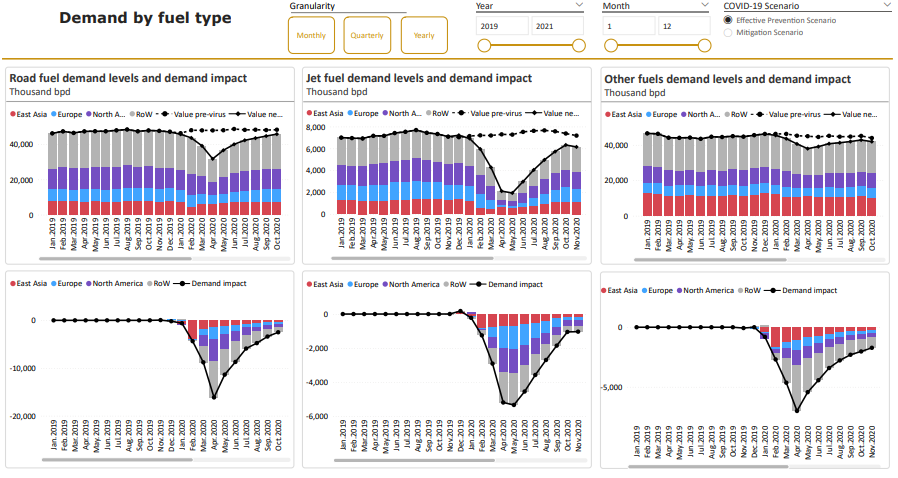

The dashboard page shown, as its layout file describes it:
{"tool":"powerbi","page":{"name":"Demand by fuel type","canvas":[1700,900],"ordinal":3},"visuals":[{"type":"textbox","box":[548,0,300.5,33.9],"z":0},{"type":"basicShape","box":[10.3,512.4,557.1,380.6],"z":1000},{"type":"basicShape","box":[1132.3,513.5,557.5,380.5],"z":2000},{"type":"basicShape","box":[569.7,512.4,558.3,380.6],"z":3000},{"type":"basicShape","box":[10.4,128.4,557.5,380.5],"z":4000},{"type":"basicShape","box":[570.2,128.4,557.5,380.5],"z":5000},{"type":"basicShape","box":[1132.6,128.4,557.1,380.6],"z":6000},{"type":"image","box":[9.2,5.7,87.1,92.9],"z":7000},{"type":"basicShape","box":[8,188,562.7,18.7],"z":8000},{"type":"basicShape","box":[568,188.5,562.8,19.4],"z":9000},{"type":"basicShape","box":[1130.3,189.1,561.7,18.3],"z":10000},{"type":"textbox","box":[19.4,131.7,530.5,64.5],"z":11000},{"type":"textbox","box":[578.9,133,539.9,64.2],"z":12000},{"type":"textbox","box":[1140.6,134.1,539.9,64.2],"z":13000},{"type":"textbox","box":[113.5,0,520.4,118.1],"z":14000},{"type":"basicShape","box":[0,99.1,1699.8,35.5],"z":15000},{"type":"slicer","title":"M scenario slicer","fields":{"Values":["MonthlyMain.COVID-19 Scenario"]},"box":[1357.6,0,342.4,106.6],"z":17000},{"type":"lineStackedColumnComboChart","title":"M other imp","fields":{"Category":["Data.Period"],"Series":["Data.Corona-region"],"Y":["Sum(Data.Value demand impact kbbl/d)"],"Y2":["Sum(Data.Value demand impact kbbl/d)"]},"box":[1132.9,532.3,539.3,362.3],"z":18000},{"type":"lineStackedColumnComboChart","title":"M Other","fields":{"Category":["Data.Period"],"Series":["Data.Corona-region"],"Y":["Sum(Data.Value new demand)"],"Y2":["Sum(Data.Value pre-virus)","Sum(Data.Value new demand)"]},"box":[1141.1,200.1,539.6,304.6],"z":19000},{"type":"slicer","title":"M slicer","fields":{"Values":["MonthlyMain.Month"]},"box":[1130.4,0,225.4,178.2],"z":20000},{"type":"lineStackedColumnComboChart","title":"M jet imp","fields":{"Category":["Data.Period"],"Series":["Data.Corona-region"],"Y":["Sum(Data.Value demand impact kbbl/d)"],"Y2":["Sum(Data.Value demand impact kbbl/d)"]},"box":[578.3,520.2,540.9,362.7],"z":21000},{"type":"lineStackedColumnComboChart","title":"M Jet","fields":{"Category":["Data.Period"],"Series":["Data.Corona-region"],"Y":["Sum(Data.Value new demand)"],"Y2":["Sum(Data.Value pre-virus)","Sum(Data.Value new demand)"]},"box":[578.3,197.5,539.6,304.6],"z":22000},{"type":"lineStackedColumnComboChart","title":"M road imp","fields":{"Category":["Data.Period"],"Series":["Data.Corona-region"],"Y":["Sum(Data.Value demand impact kbbl/d)"],"Y2":["Sum(Data.Value demand impact kbbl/d)"]},"box":[19.4,518.9,539.6,362.7],"z":23000},{"type":"lineStackedColumnComboChart","title":"M road","fields":{"Category":["Data.Period"],"Series":["Data.Corona-region"],"Y":["Sum(Data.Value new demand)"],"Y2":["Sum(Data.Value pre-virus)","Sum(Data.Value new demand)"]},"box":[19.4,198.8,539.6,304.6],"z":24000},{"type":"slicer","title":"Year slicer","fields":{"Values":["MonthlyMain.Year"]},"box":[890.7,0,228.5,169.1],"z":40000},{"type":"basicShape","box":[545,17.2,237.9,25.9],"z":41000},{"type":"actionButton","title":"Button M","box":[548.6,37,89.1,71],"z":42000},{"type":"actionButton","title":"Button Q","box":[654.4,37,89.1,71],"z":43000},{"type":"actionButton","title":"Button Y","box":[761.6,37,89.1,71],"z":44000}]}

Visuals, with their boxes in screenshot pixels (x1, y1, x2, y2), scaled from the page's 1700x900 canvas onto the 898x478 screenshot:
textbox: box=[289, 0, 448, 18]
basicShape: box=[5, 272, 300, 474]
basicShape: box=[598, 273, 893, 475]
basicShape: box=[301, 272, 596, 474]
basicShape: box=[5, 68, 300, 270]
basicShape: box=[301, 68, 596, 270]
basicShape: box=[598, 68, 893, 270]
image: box=[5, 3, 51, 52]
basicShape: box=[4, 100, 301, 110]
basicShape: box=[300, 100, 597, 110]
basicShape: box=[597, 100, 894, 110]
textbox: box=[10, 70, 290, 104]
textbox: box=[306, 71, 591, 105]
textbox: box=[603, 71, 888, 105]
textbox: box=[60, 0, 335, 63]
basicShape: box=[0, 53, 897, 71]
"M scenario slicer" slicer: box=[717, 0, 897, 57]
"M other imp" lineStackedColumnComboChart: box=[598, 283, 883, 475]
"M Other" lineStackedColumnComboChart: box=[603, 106, 888, 268]
"M slicer" slicer: box=[597, 0, 716, 95]
"M jet imp" lineStackedColumnComboChart: box=[305, 276, 591, 469]
"M Jet" lineStackedColumnComboChart: box=[305, 105, 591, 267]
"M road imp" lineStackedColumnComboChart: box=[10, 276, 295, 468]
"M road" lineStackedColumnComboChart: box=[10, 106, 295, 267]
"Year slicer" slicer: box=[470, 0, 591, 90]
basicShape: box=[288, 9, 414, 23]
"Button M" actionButton: box=[290, 20, 337, 57]
"Button Q" actionButton: box=[346, 20, 393, 57]
"Button Y" actionButton: box=[402, 20, 449, 57]
